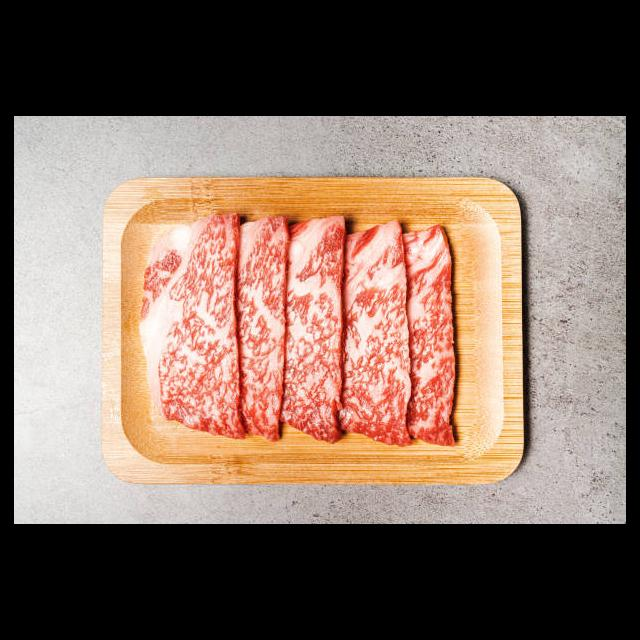beef: (139, 218, 247, 439), (346, 218, 411, 445), (284, 213, 343, 447), (230, 218, 283, 440), (403, 226, 456, 448)
